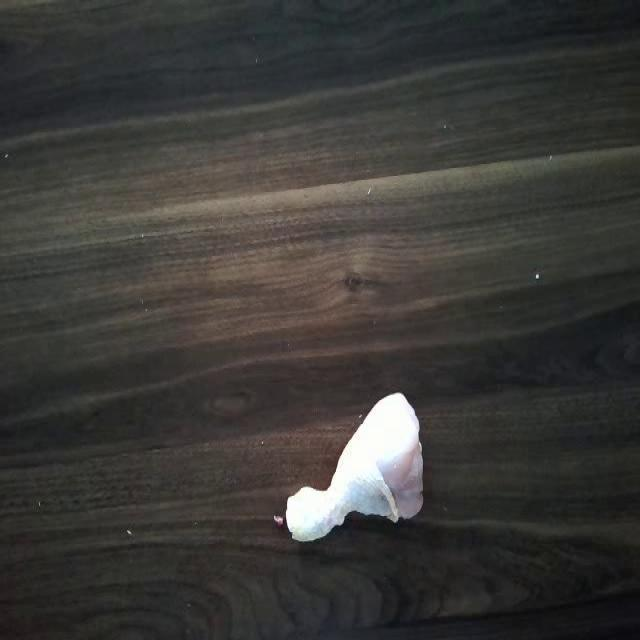leg: (268, 382, 430, 540)
